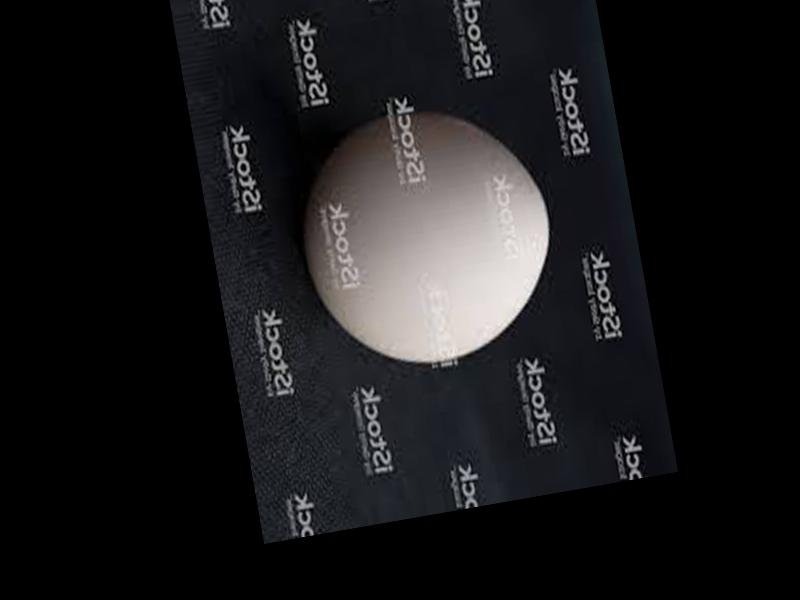Eggs: (283, 91, 569, 381)
